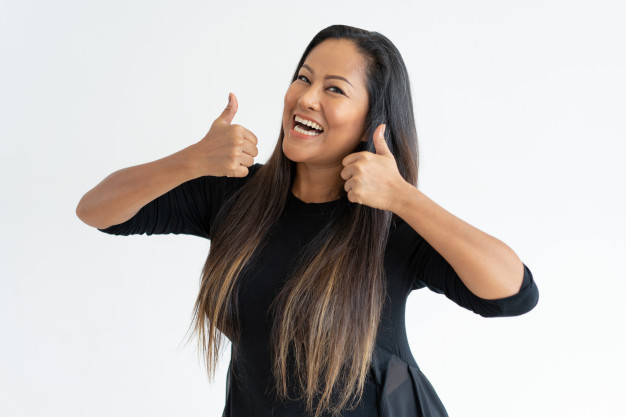thumbsup: (341, 123, 387, 204), (215, 91, 258, 177)
